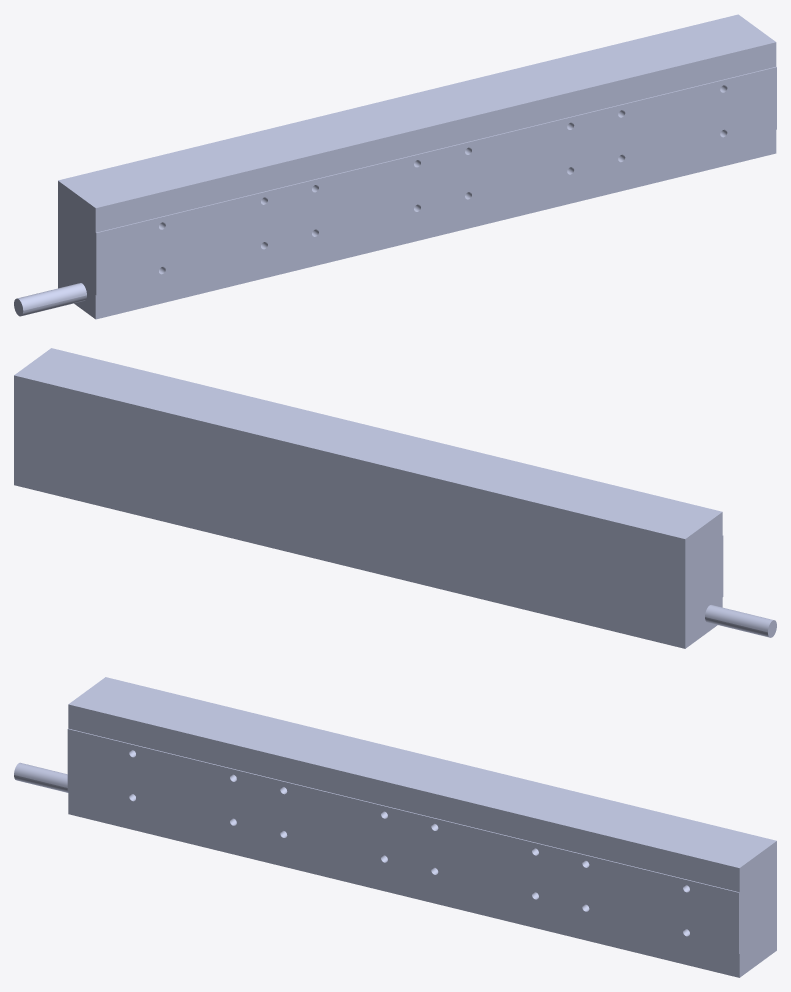
Rendered from MTA-18.glb.
3 renders of one model, top to bottom at view 1: azimuth 30°, elevation 25°; view 2: azimuth 150°, elevation 25°; view 3: azimuth 330°, elevation 25°, orthographic.
Visible parts, largest first — view 1: MTA-18_node_1; view 2: MTA-18_node_1; view 3: MTA-18_node_1.
Part boxes in pixels (left/top/right/bottom): MTA-18_node_1: left=14, top=14, right=776, bottom=319; MTA-18_node_1: left=14, top=348, right=776, bottom=648; MTA-18_node_1: left=14, top=677, right=776, bottom=977.
Bounding box in the file's own units: 350 × 50 × 31.4.
